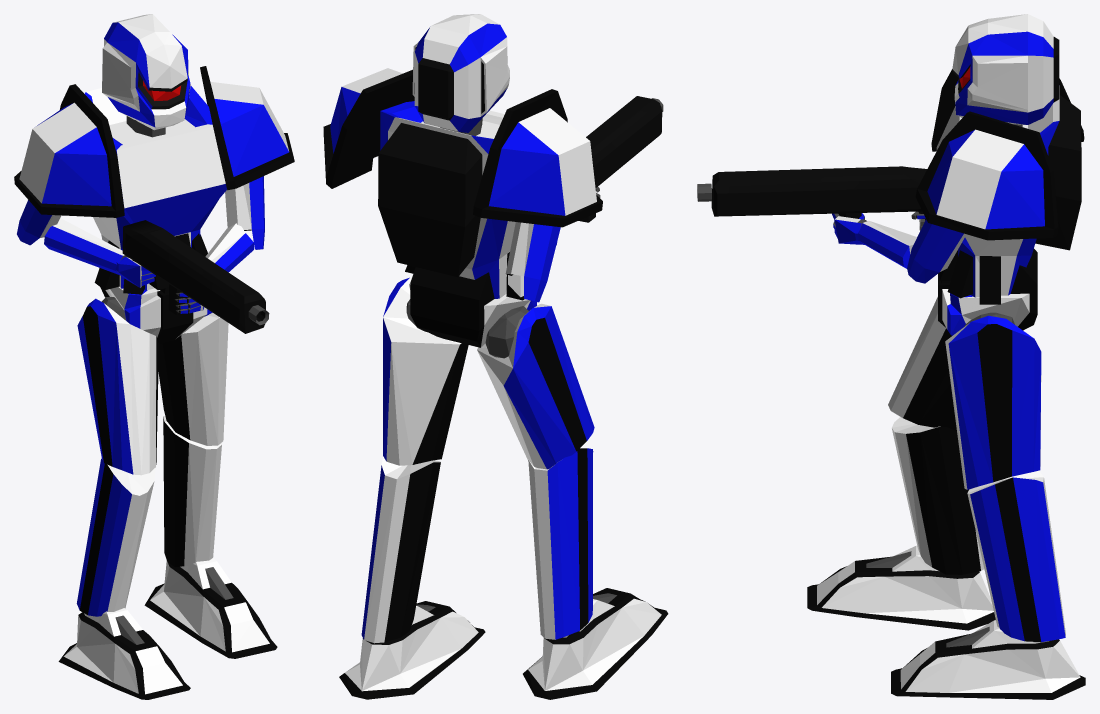
The model's file is robot_animation_000019.obj.
3 renders of one model, left to right at view 1: azimuth 30°, elevation 25°; view 2: azimuth 150°, elevation 25°; view 3: azimuth 270°, elevation 25°, orthographic. The views are drawn at different scales.
Visible parts, largest first — view 1: Chest_plate_Cube.004, R_Thigh_Cube.005, Cube.002_Cube.059, Head_base_Cube.022, R_Shin_Cube.007, R_Foot.002_Cube.035, R_Thigh.002_Cube.027, Cube_Cube.001, R_Foot_Cube, R_Shin.002_Cube.029, Cube_Cube.021, Pelvis_Cube.006 (+5 smaller); view 2: Chest_plate_Cube.004, Cube.002_Cube.059, R_Thigh_Cube.005, R_Thigh.002_Cube.027, R_Shin_Cube.007, R_Shin.002_Cube.029, Head_base_Cube.022, R_Foot_Cube, R_Foot.002_Cube.035, Cube_Cube.021, Pelvis_Cube.006, Cube_Cube.001 (+2 smaller); view 3: Cube_Cube.021, R_Thigh.002_Cube.027, R_Shin.002_Cube.029, R_Foot.002_Cube.035, R_Foot_Cube, Head_base_Cube.022, Cube_Cube.001, Chest_plate_Cube.004, R_Shin_Cube.007, R_Thigh_Cube.005, Pelvis_Cube.006, L_Arm_Cube.014 (+3 smaller).
Boxes of the visible parts, x1=… form: Chest_plate_Cube.004: x1=84, y1=86, x2=226, y2=294; R_Thigh_Cube.005: x1=77, y1=298, x2=158, y2=475; Cube.002_Cube.059: x1=14, y1=84, x2=124, y2=217; Head_base_Cube.022: x1=102, y1=14, x2=190, y2=130; R_Shin_Cube.007: x1=76, y1=458, x2=155, y2=616; R_Foot.002_Cube.035: x1=144, y1=558, x2=277, y2=658; R_Thigh.002_Cube.027: x1=158, y1=312, x2=228, y2=445; Cube_Cube.001: x1=122, y1=220, x2=269, y2=333; R_Foot_Cube: x1=58, y1=608, x2=190, y2=699; R_Shin.002_Cube.029: x1=163, y1=416, x2=221, y2=567; Cube_Cube.021: x1=200, y1=66, x2=294, y2=190; Pelvis_Cube.006: x1=100, y1=286, x2=212, y2=343; Chest_plate_Cube.004: x1=378, y1=101, x2=524, y2=300; Cube.002_Cube.059: x1=473, y1=89, x2=602, y2=227; R_Thigh_Cube.005: x1=477, y1=303, x2=594, y2=469; R_Thigh.002_Cube.027: x1=383, y1=277, x2=468, y2=465; R_Shin_Cube.007: x1=528, y1=448, x2=593, y2=639; R_Shin.002_Cube.029: x1=361, y1=457, x2=440, y2=643; Head_base_Cube.022: x1=412, y1=14, x2=509, y2=132; R_Foot_Cube: x1=523, y1=588, x2=668, y2=699; R_Foot.002_Cube.035: x1=339, y1=601, x2=485, y2=699; Cube_Cube.021: x1=323, y1=68, x2=414, y2=188; Pelvis_Cube.006: x1=409, y1=267, x2=536, y2=347; Cube_Cube.001: x1=578, y1=96, x2=663, y2=222; Cube_Cube.021: x1=915, y1=111, x2=1058, y2=240; R_Thigh.002_Cube.027: x1=945, y1=315, x2=1041, y2=489; R_Shin.002_Cube.029: x1=967, y1=470, x2=1065, y2=642; R_Foot.002_Cube.035: x1=891, y1=620, x2=1085, y2=699; R_Foot_Cube: x1=807, y1=545, x2=995, y2=630; Head_base_Cube.022: x1=952, y1=14, x2=1059, y2=124; Cube_Cube.001: x1=697, y1=166, x2=927, y2=220; Chest_plate_Cube.004: x1=936, y1=85, x2=1081, y2=304; R_Shin_Cube.007: x1=892, y1=417, x2=984, y2=574; R_Thigh_Cube.005: x1=888, y1=297, x2=1023, y2=431; Pelvis_Cube.006: x1=938, y1=249, x2=1037, y2=335; L_Arm_Cube.014: x1=907, y1=219, x2=966, y2=283.
Size of the model in its own units: 1.32 by 3.03 by 1.69.
